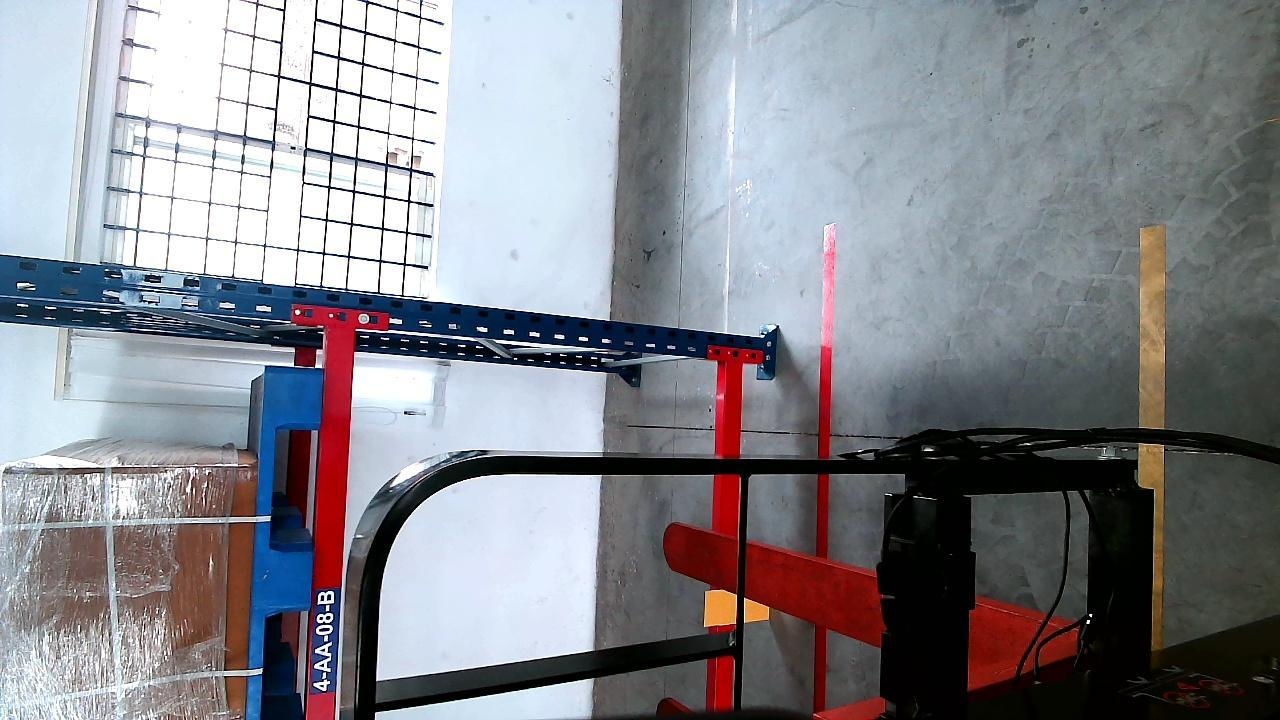red_line: (817, 224, 837, 472)
yellow_line: (1140, 207, 1166, 666)
